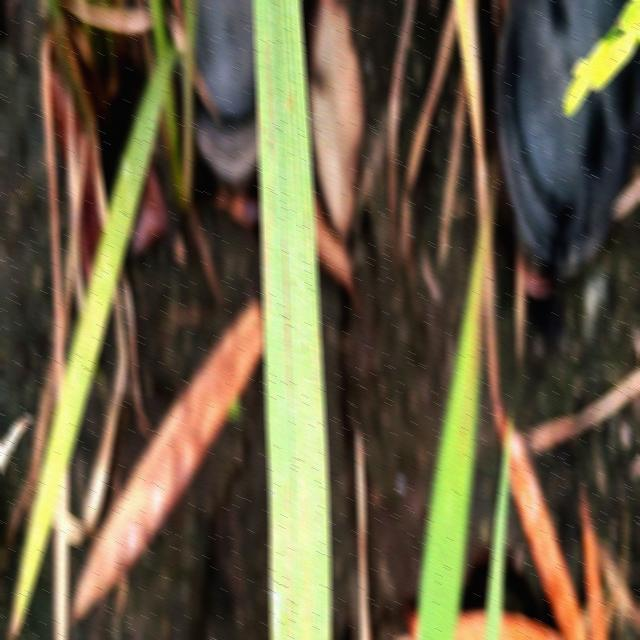NBS: (282, 230, 291, 401), (266, 37, 276, 171), (284, 478, 292, 640), (313, 334, 319, 429), (264, 222, 270, 312), (307, 556, 311, 636), (269, 181, 274, 226), (304, 209, 310, 244), (302, 476, 306, 527), (258, 111, 263, 148)
